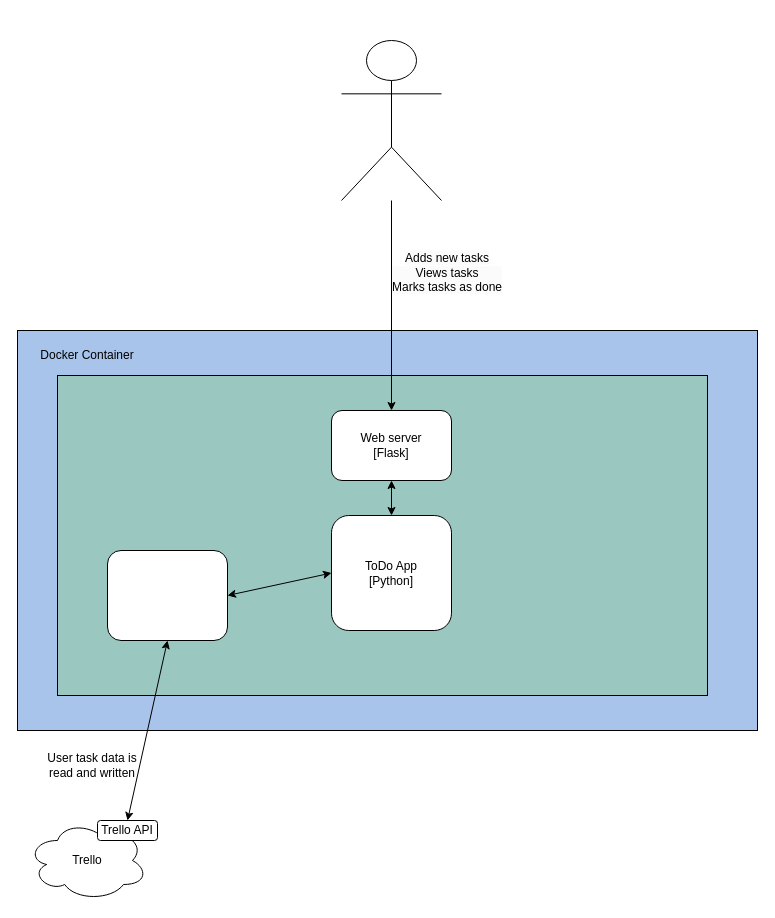
Some shapes in this 775 by 918 pixel diagram are drawn without their labels. The shapes that lost their labels are listed below. From the top down, each one's centre as x and y in pixels, then its label:
At (391,120): "ToDo App User".
At (167,595): "Trello service [Python] API Config".
